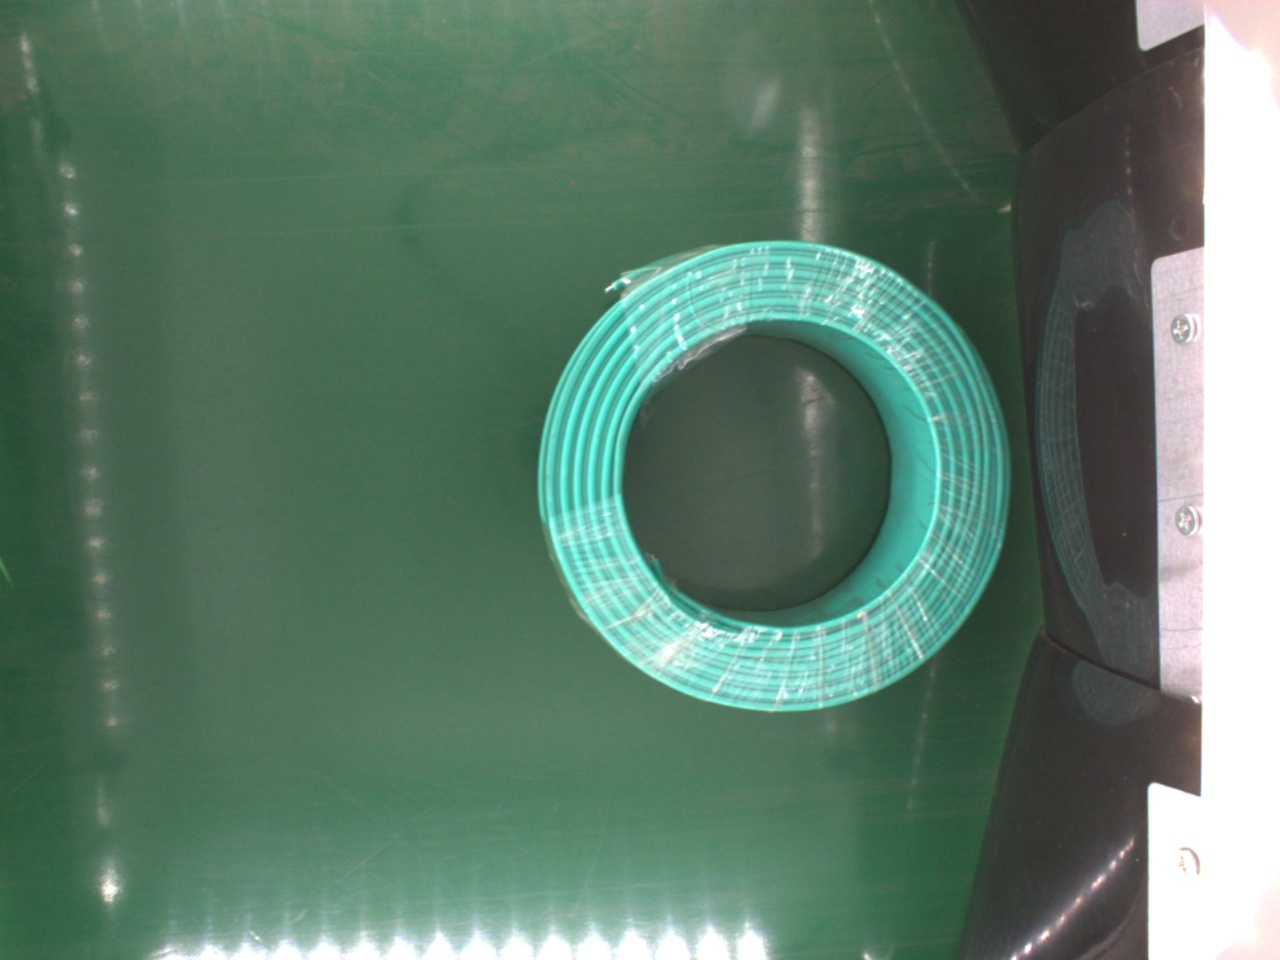green: (537, 238, 1011, 714)
